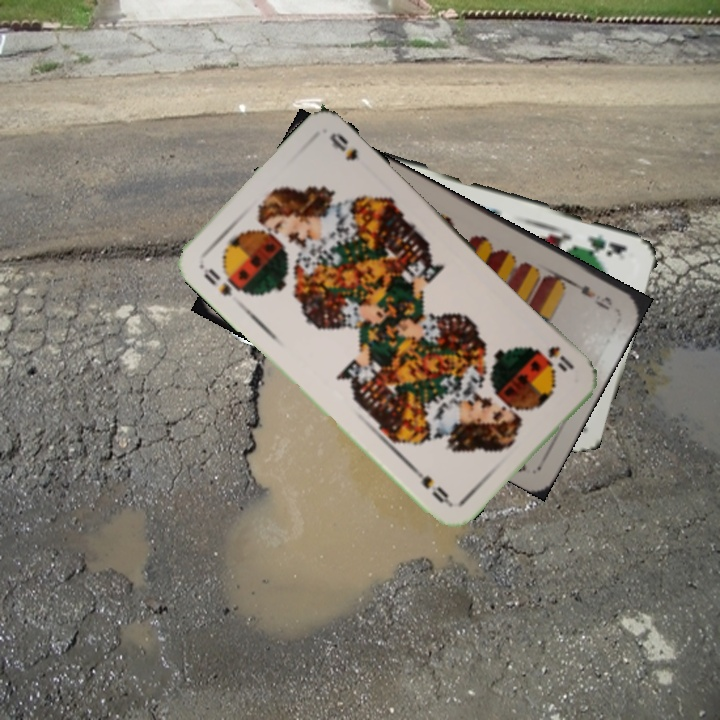E9: (564, 276, 616, 313)
GK: (575, 229, 630, 259)
SO: (196, 261, 243, 299), (532, 342, 577, 375)
